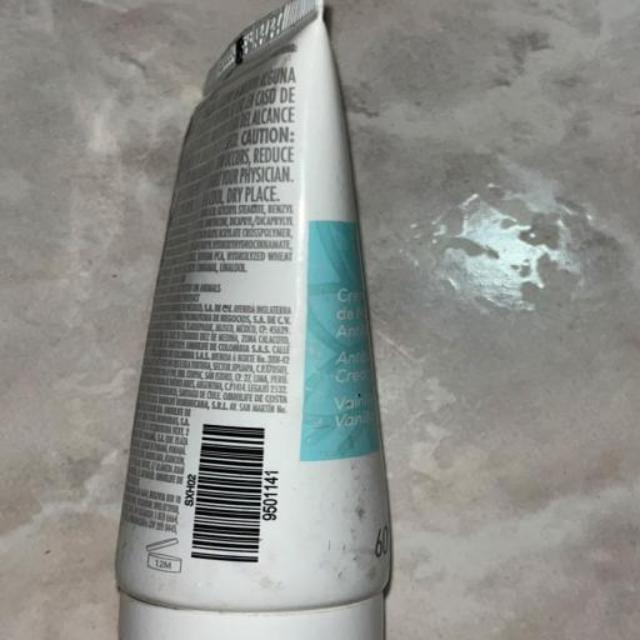HDPE: (26, 2, 554, 631)
